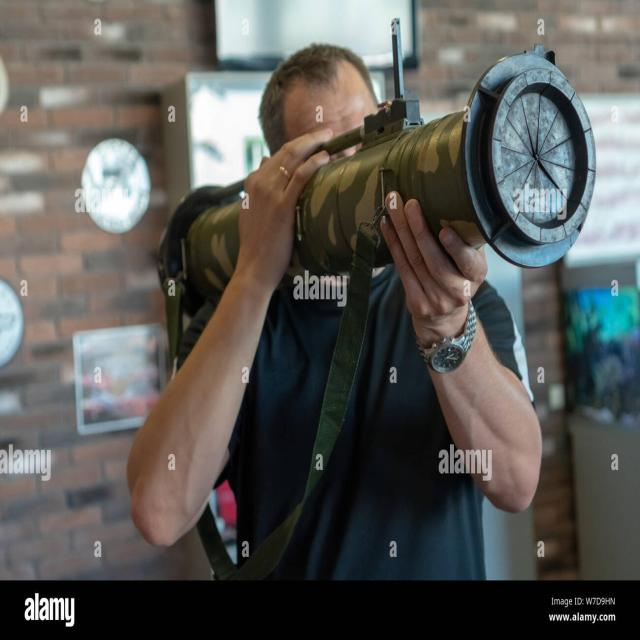bazooka: (137, 36, 628, 353)
